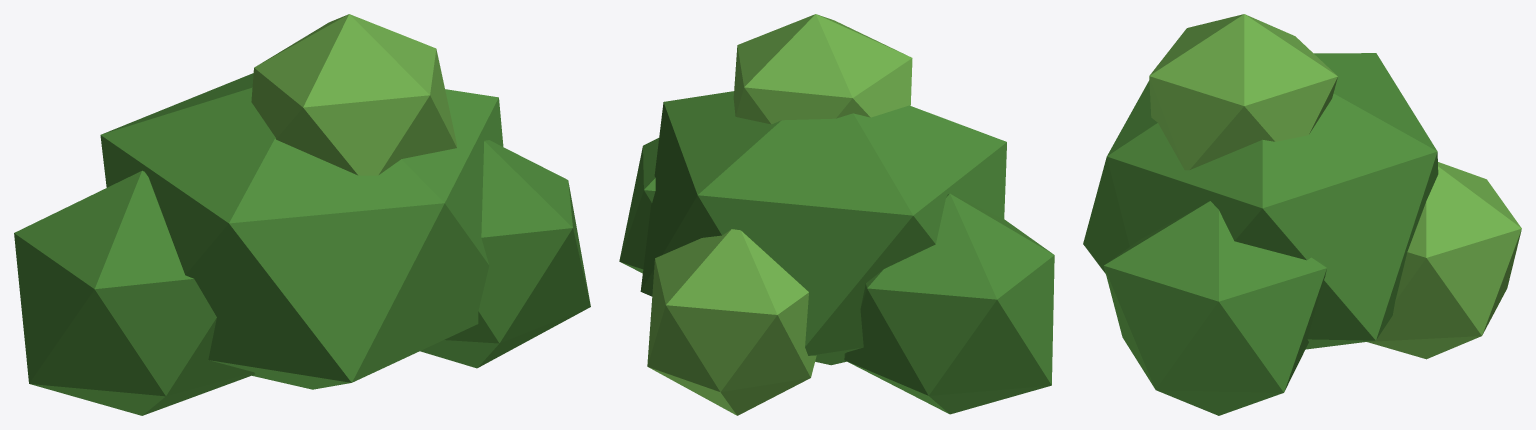
File: bush.glb
3 renders of one model, left to right at view 1: azimuth 30°, elevation 25°; view 2: azimuth 150°, elevation 25°; view 3: azimuth 270°, elevation 25°, orthographic. The views are drawn at different scales.
Visible parts, largest first — view 1: bush_main, bush_left, bush_top, bush_right; view 2: bush_main, bush_left, bush_front, bush_top, bush_right; view 3: bush_main, bush_right, bush_top, bush_front.
Boxes of the visible parts, x1=… form: bush_main: x1=100, y1=73, x2=503, y2=389; bush_left: x1=14, y1=170, x2=254, y2=415; bush_top: x1=251, y1=14, x2=456, y2=175; bush_right: x1=420, y1=140, x2=590, y2=368; bush_main: x1=640, y1=91, x2=1006, y2=365; bush_left: x1=844, y1=193, x2=1054, y2=414; bush_front: x1=647, y1=229, x2=816, y2=415; bush_top: x1=733, y1=14, x2=912, y2=124; bush_right: x1=619, y1=138, x2=658, y2=273; bush_main: x1=1083, y1=53, x2=1438, y2=349; bush_right: x1=1104, y1=201, x2=1326, y2=415; bush_top: x1=1149, y1=14, x2=1337, y2=170; bush_front: x1=1367, y1=162, x2=1521, y2=359.
Bounding box in the file's own units: 1.48 × 1.08 × 1.21.
